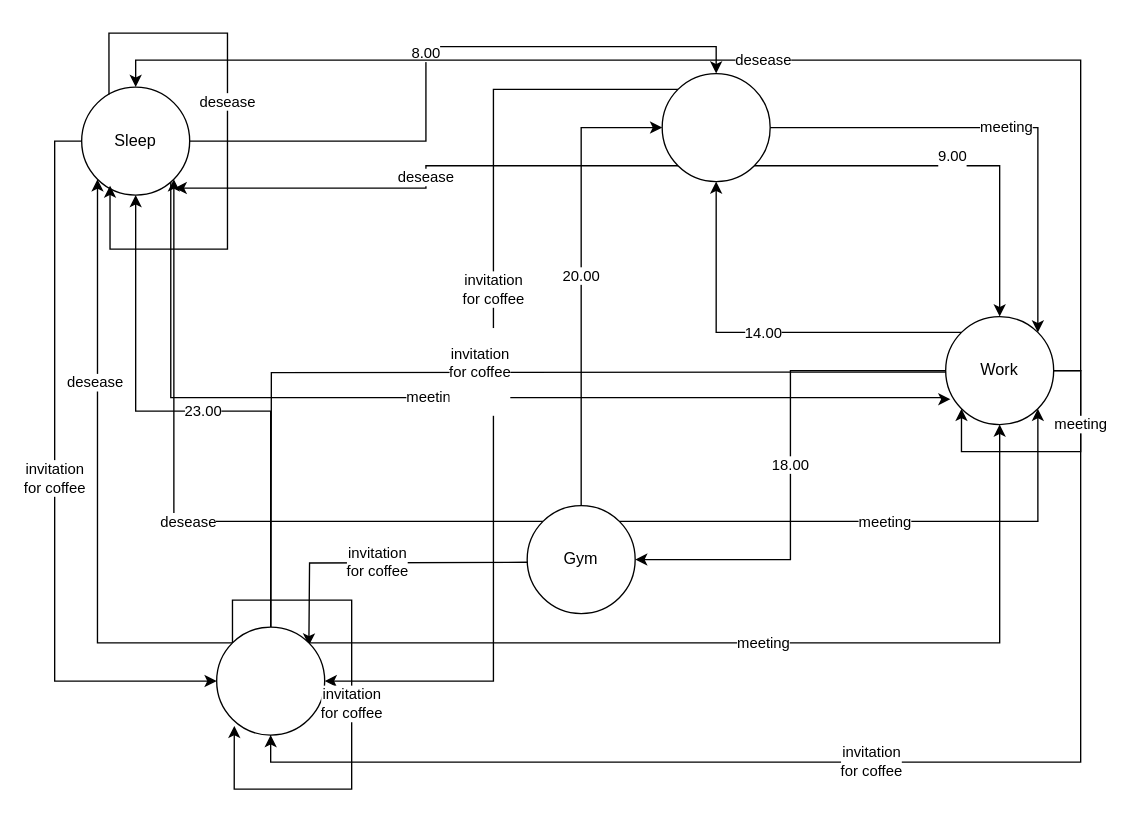
Image size: 1130x824. Some labels were removed from this diagram. Here are the shapes that lost their labels. From the top down, the box of each, then its label:
(661, 72, 770, 182): Eat
(215, 626, 325, 735): Rest
